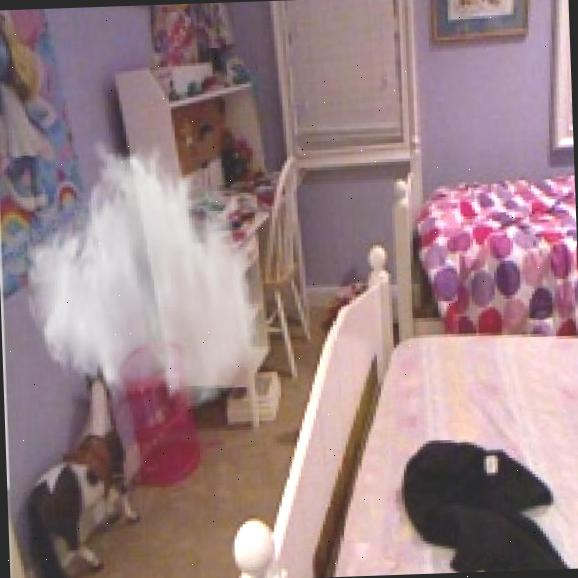smoke: (18, 129, 264, 417)
